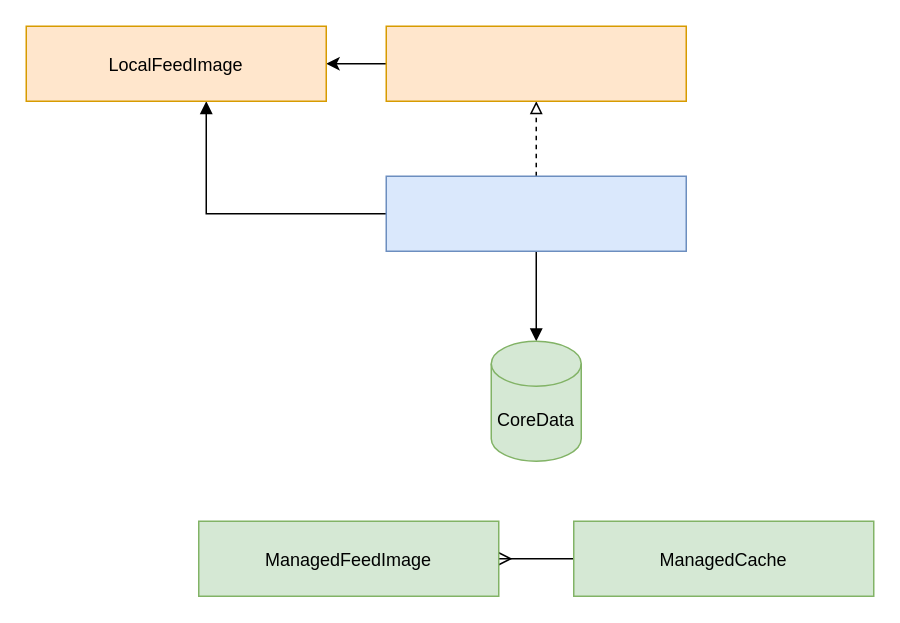
This 900x623 diagram has some shape labels left out. Each missing label, with the centre of its shape:
<FeedStore>: the point at 535,63
CoreDataFeedStore: the point at 535,213
